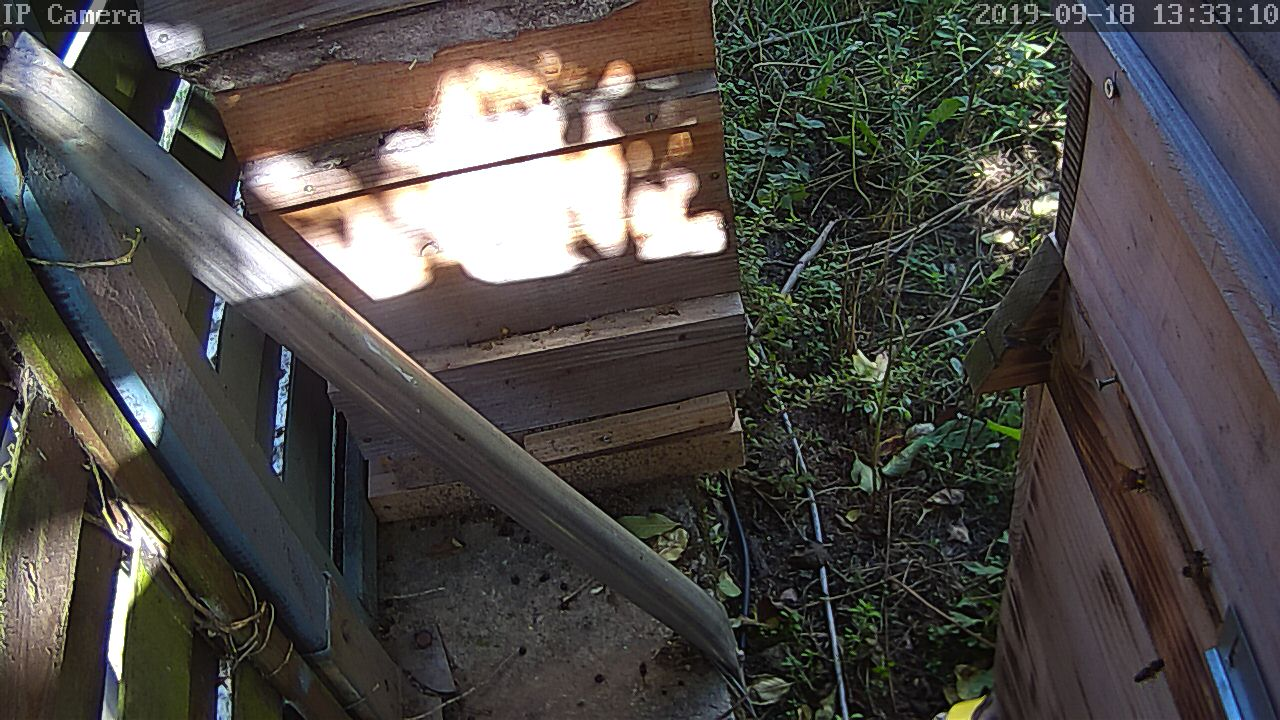hornet: (1106, 448, 1157, 504)
